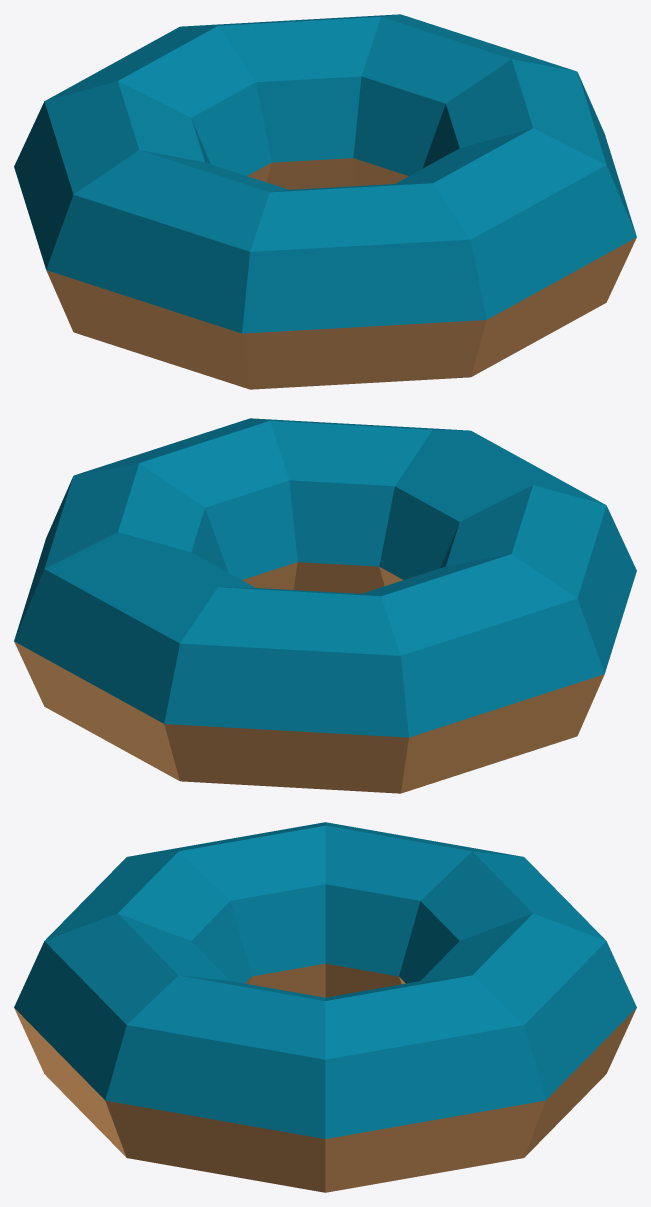
File: donuts-01.fbx
3 renders of one model, top to bottom at view 1: azimuth 30°, elevation 25°; view 2: azimuth 150°, elevation 25°; view 3: azimuth 270°, elevation 25°, orthographic. The views are drawn at different scales.
Parts seen in each view (by area): view 1: donuts-01; view 2: donuts-01; view 3: donuts-01.
Part boxes in pixels (x1=…): donuts-01: x1=14, y1=14, x2=636, y2=389; donuts-01: x1=14, y1=418, x2=636, y2=793; donuts-01: x1=14, y1=822, x2=636, y2=1192.
Bounding box in the file's own units: 15 × 5 × 15.
Materials: 1 (1 with a texture image).
